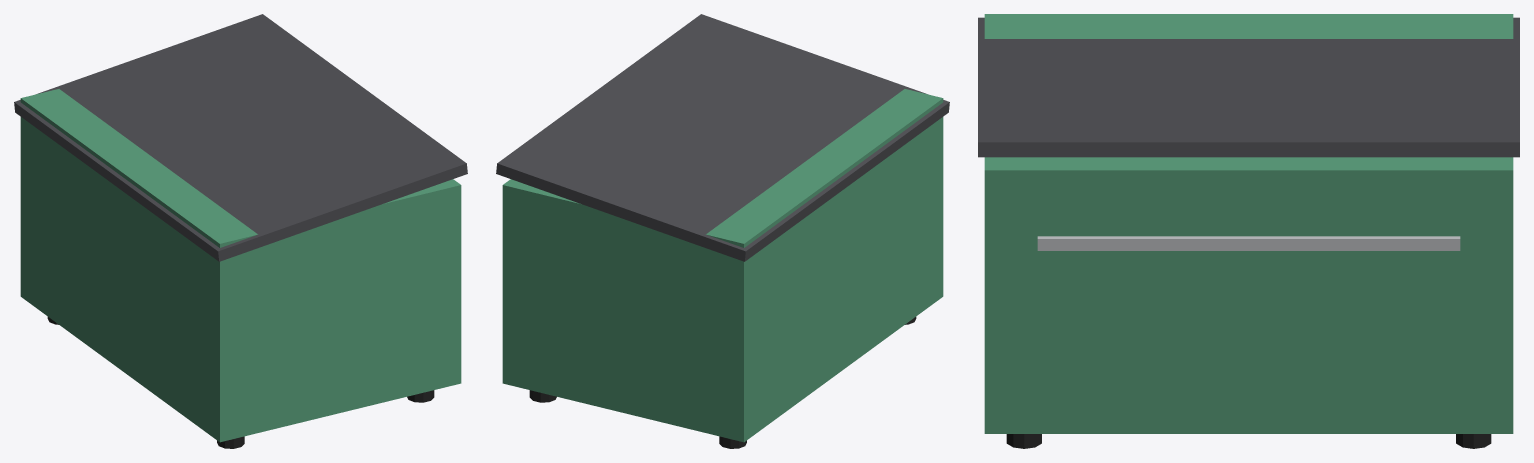
The model's file is SM_Prop_Dumpster.glb.
3 views of the same model, side by side, from view 1: azimuth 30°, elevation 25°; view 2: azimuth 150°, elevation 25°; view 3: azimuth 270°, elevation 25° (orthographic). The views are drawn at different scales.
Visible parts, largest first — view 1: SM_Prop_Dumpster; view 2: SM_Prop_Dumpster; view 3: SM_Prop_Dumpster.
Part boxes in pixels (x1,y1,x2,y2): SM_Prop_Dumpster: (14, 14, 467, 448); SM_Prop_Dumpster: (496, 14, 949, 448); SM_Prop_Dumpster: (978, 14, 1519, 448).
Size of the model in its own units: 1.45 by 1.33 by 2.05.
